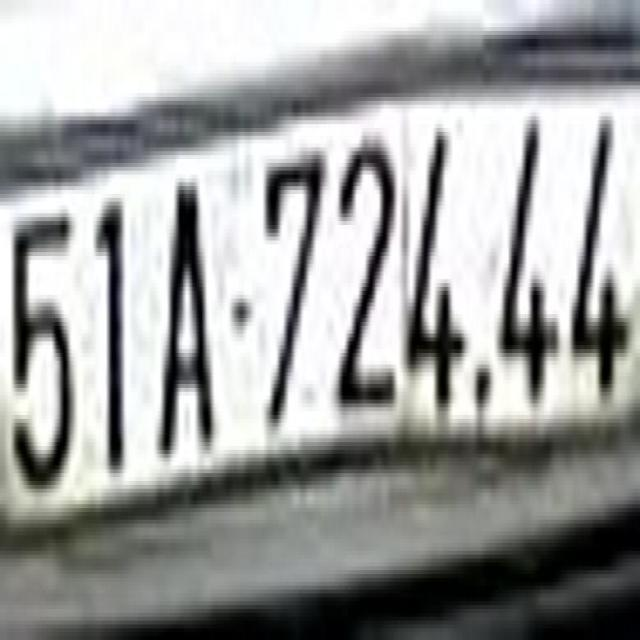1: (97, 163, 133, 485)
2: (335, 128, 396, 419)
4: (411, 117, 469, 430), (570, 89, 624, 419), (503, 93, 555, 427)
5: (8, 198, 76, 504)
7: (261, 132, 322, 438)
A: (161, 186, 219, 462)
